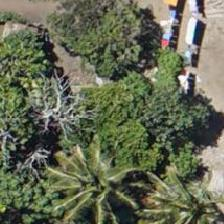coconut_tree: (51, 139, 141, 223)
